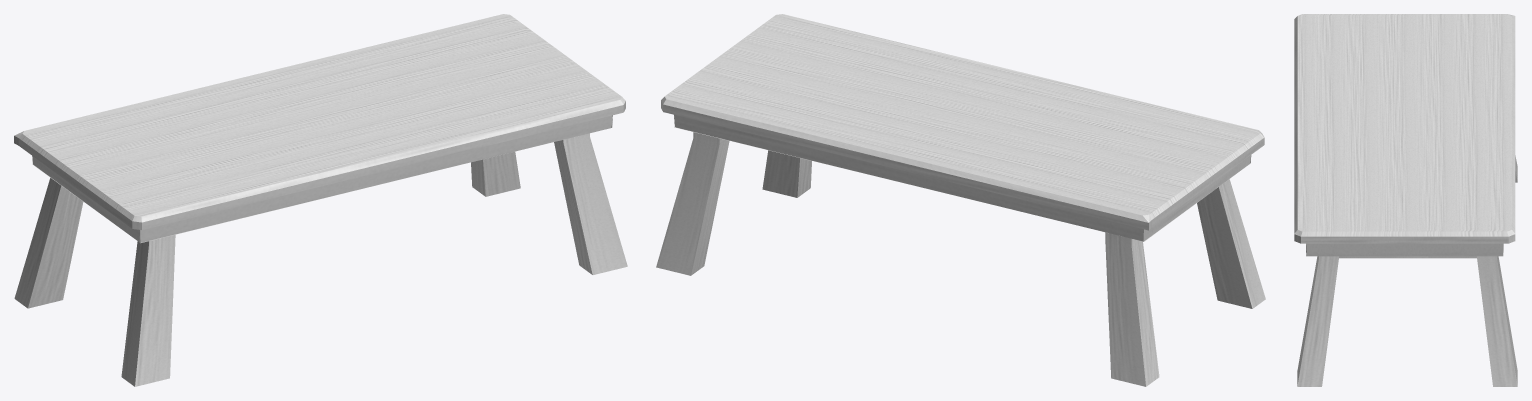
The model's file is Bench_A.FBX.
3 renders of one model, left to right at view 1: azimuth 30°, elevation 25°; view 2: azimuth 150°, elevation 25°; view 3: azimuth 270°, elevation 25°, orthographic. The views are drawn at different scales.
Parts seen in each view (by area): view 1: Bench; view 2: Bench; view 3: Bench.
Boxes of the visible parts, left/top/right/bottom form: Bench: left=14, top=14, right=627, bottom=386; Bench: left=656, top=14, right=1265, bottom=386; Bench: left=1294, top=14, right=1517, bottom=386.
Size of the model in its own units: 281 by 91.5 by 120.
